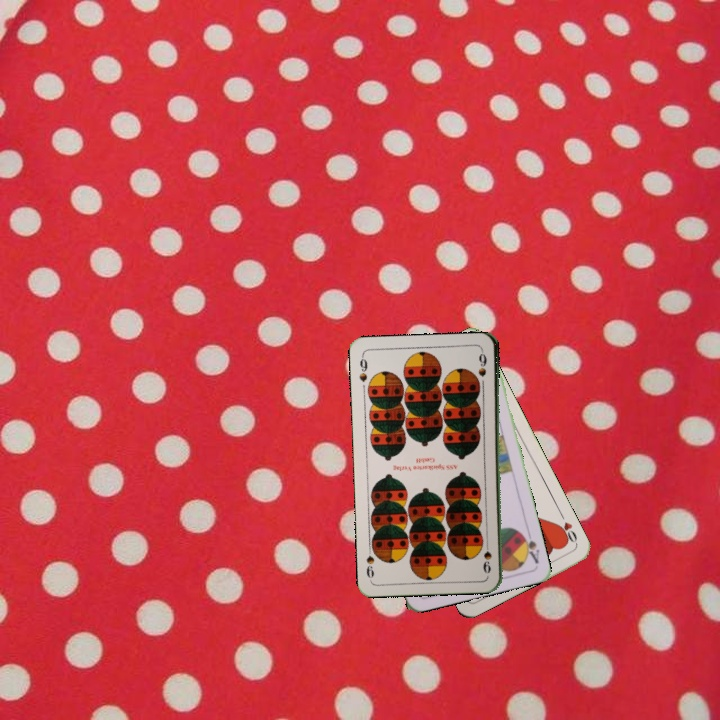HO: (553, 509, 580, 547)
S9: (481, 536, 494, 576), (355, 352, 370, 384)
SA: (517, 527, 542, 566)
